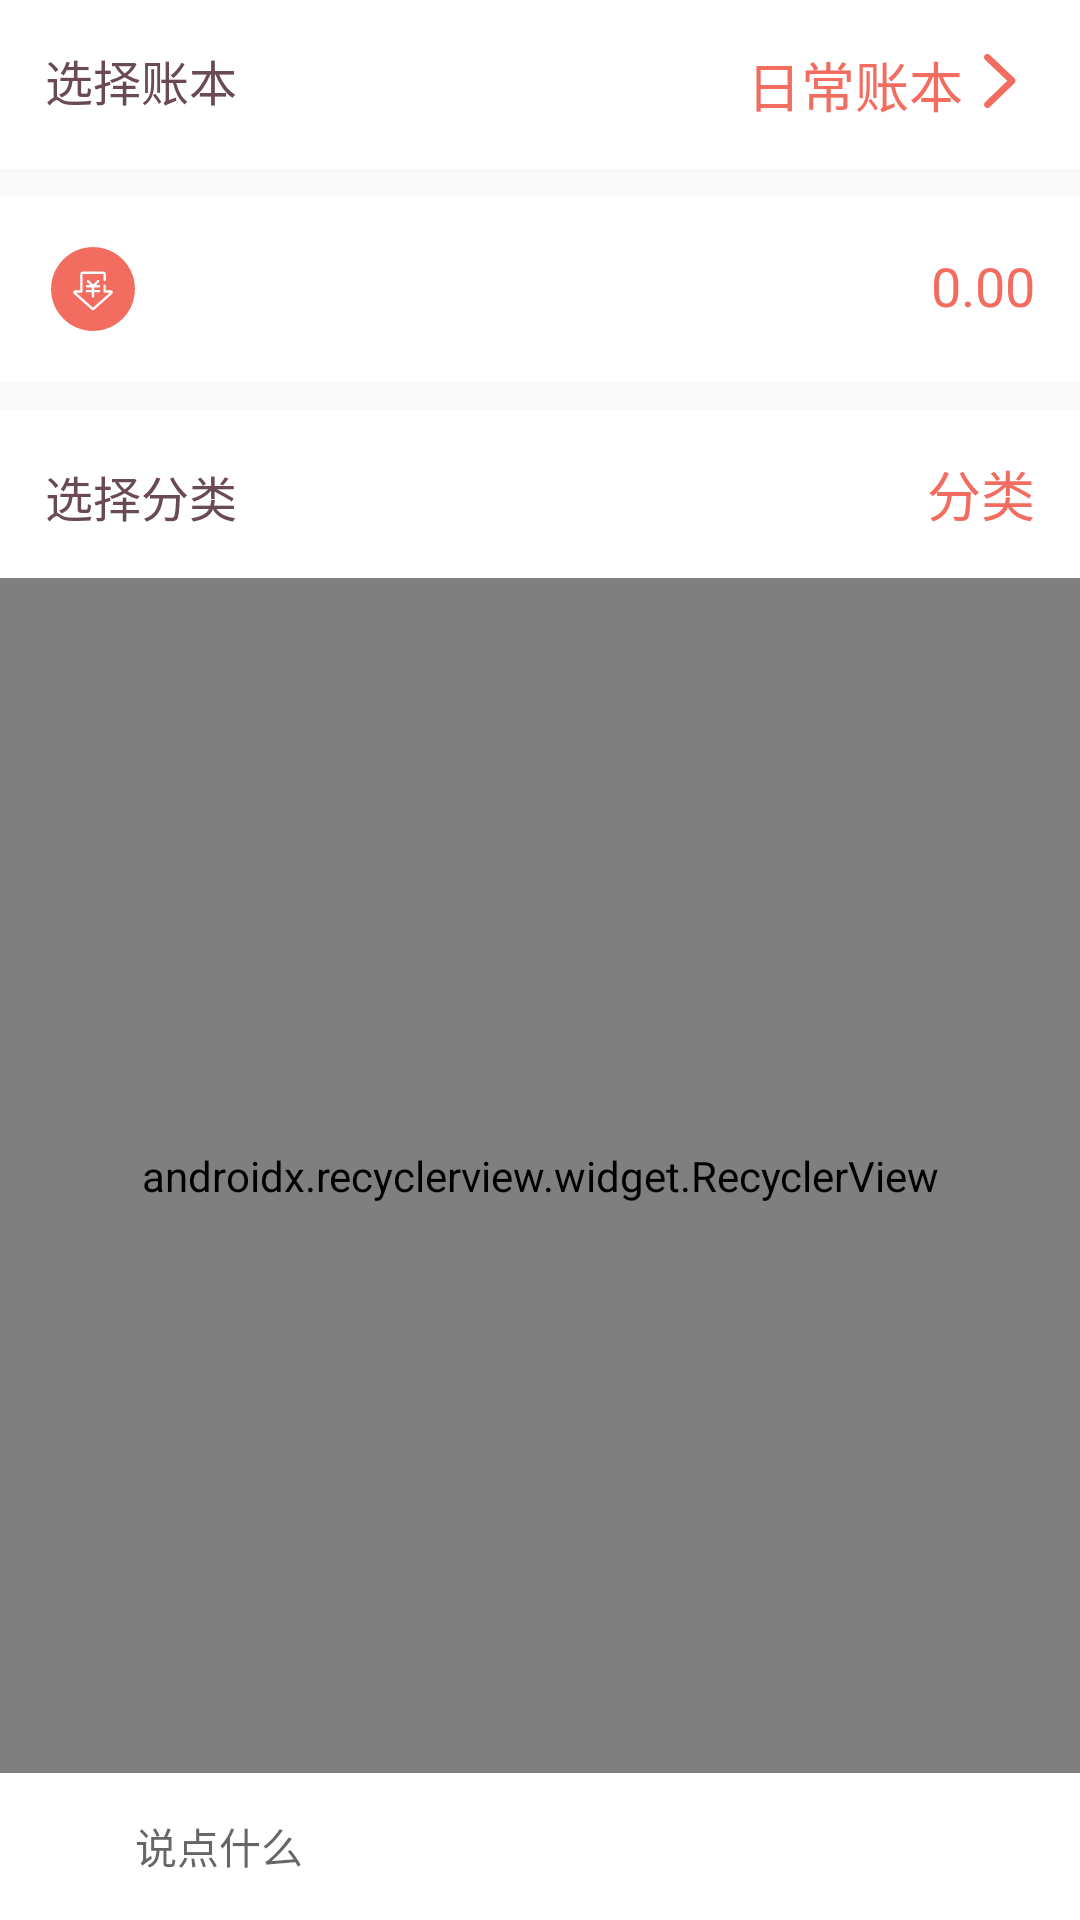

Icons on this 1080x1920 Android screen, each with its box as bbox=[x1, y1, x2, y2]:
right: bbox=[984, 54, 1016, 108]
